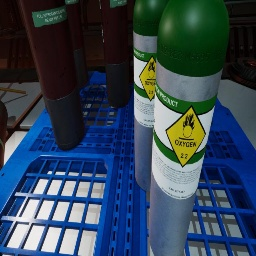0: (148, 0, 230, 256), (133, 0, 170, 192)
FirstAidBox ,: (128, 44, 134, 83)
NitrogenTank ,: (20, 0, 85, 151), (18, 0, 49, 114), (99, 0, 129, 108), (65, 0, 88, 88), (0, 100, 8, 171)
